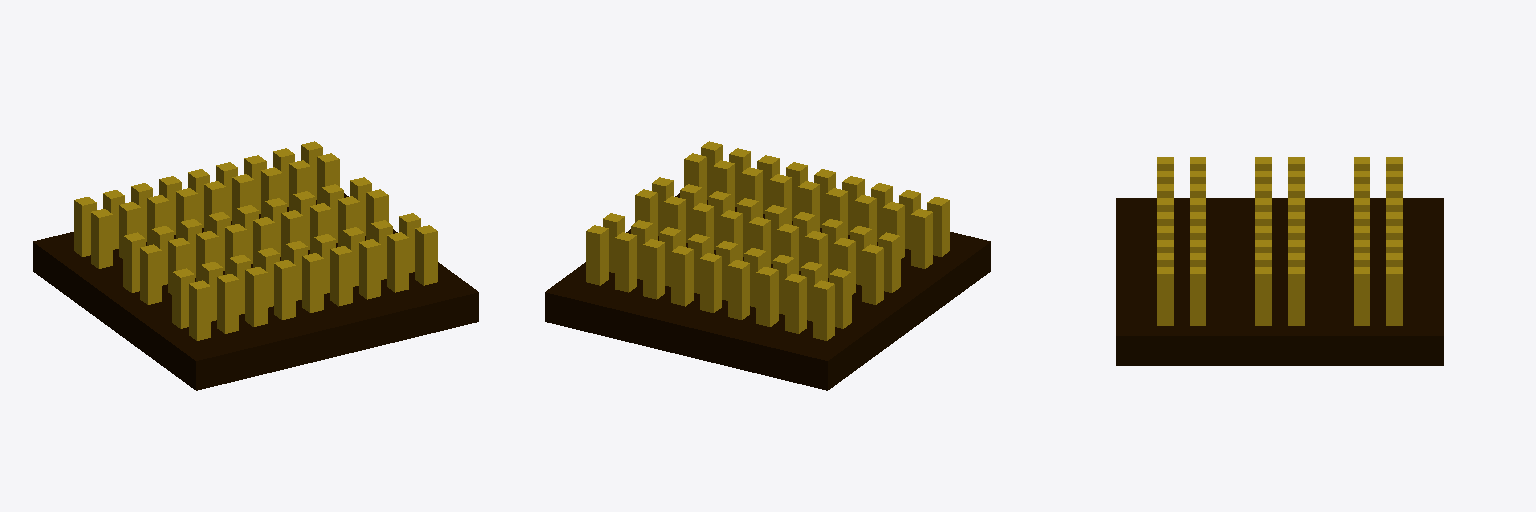
File: Crop3.obj
3 renders of one model, left to right at view 1: azimuth 30°, elevation 25°; view 2: azimuth 150°, elevation 25°; view 3: azimuth 270°, elevation 25°, orthographic.
Parts seen in each view (by area): view 1: Box635, CropBare002; view 2: Box635, CropBare002; view 3: CropBare002, Box635.
Boxes of the visible parts, <box> form: Box635: <box>74,141,437,340</box>; CropBare002: <box>33,193,478,390</box>; Box635: <box>586,141,949,340</box>; CropBare002: <box>545,193,990,390</box>; CropBare002: <box>1116,198,1443,365</box>; Box635: <box>1157,157,1402,325</box>.
Bounding box in the file's own units: 10 × 2.73 × 10.